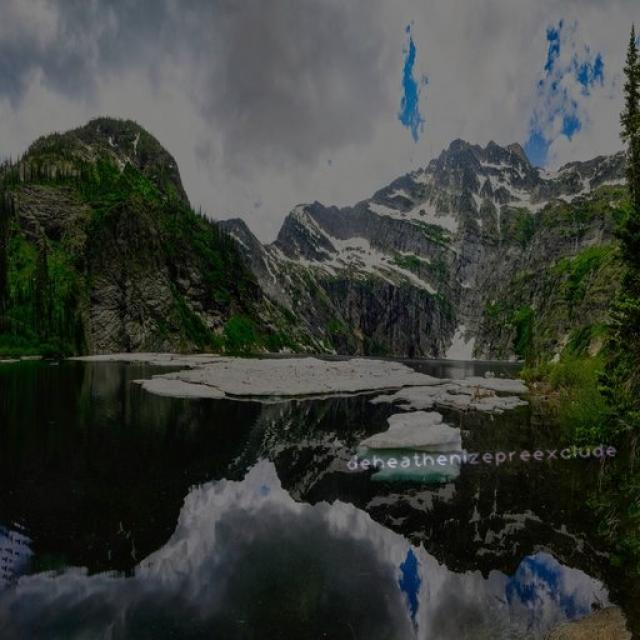watermark: (340, 441, 617, 473)
